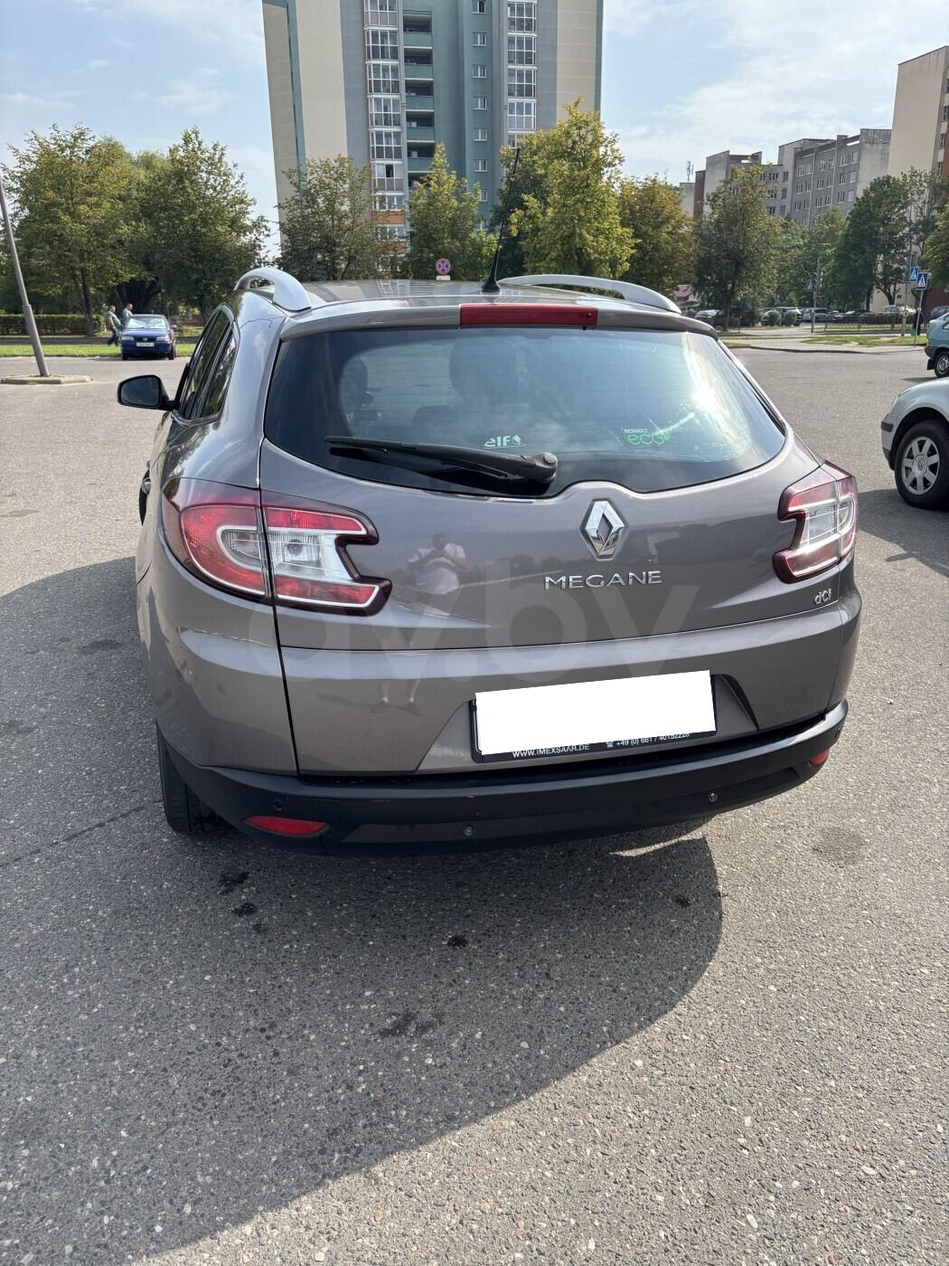Megane_2008-2014: (130, 264, 873, 875)
